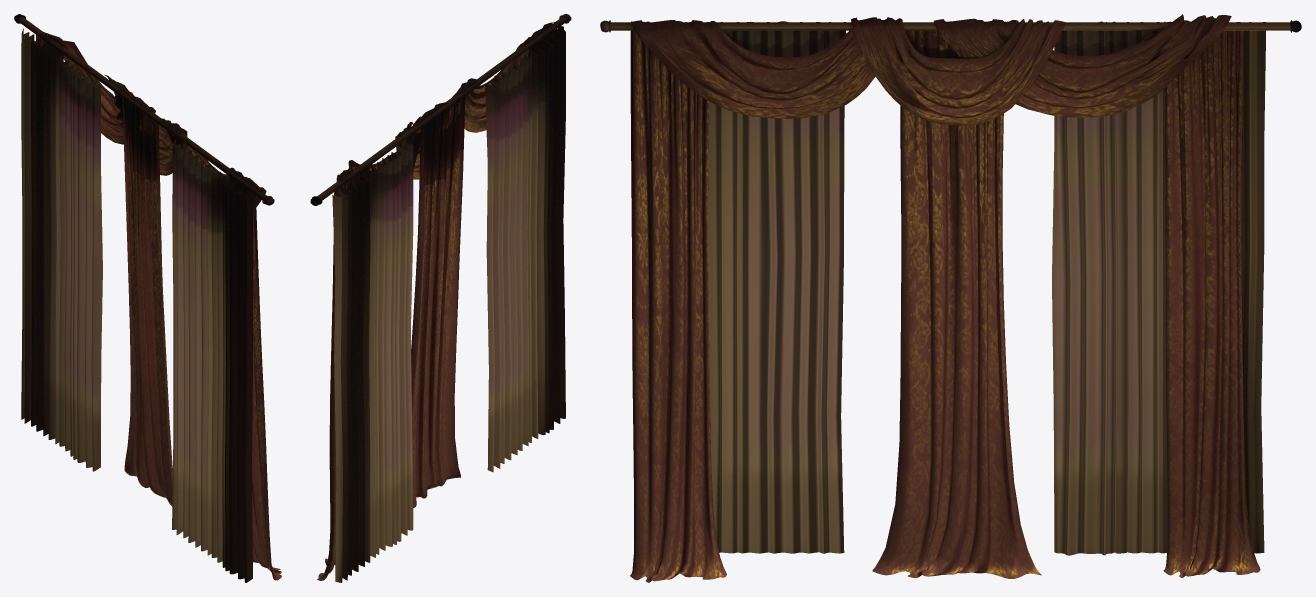
Rendered from drapes.obj.
3 renders of one model, left to right at view 1: azimuth 30°, elevation 25°; view 2: azimuth 150°, elevation 25°; view 3: azimuth 270°, elevation 25°, orthographic. The views are drawn at different scales.
Parts seen in each view (by area): view 1: drapesBaked BedroomBakedTriExport; view 2: drapesBaked BedroomBakedTriExport; view 3: drapesBaked BedroomBakedTriExport.
Boxes of the visible parts, x1,y1,x2,y2 form: drapesBaked BedroomBakedTriExport: [14, 14, 281, 582]; drapesBaked BedroomBakedTriExport: [310, 14, 571, 582]; drapesBaked BedroomBakedTriExport: [600, 14, 1301, 582].
Size of the model in its own units: 0.3328 by 2.97 by 3.44.
